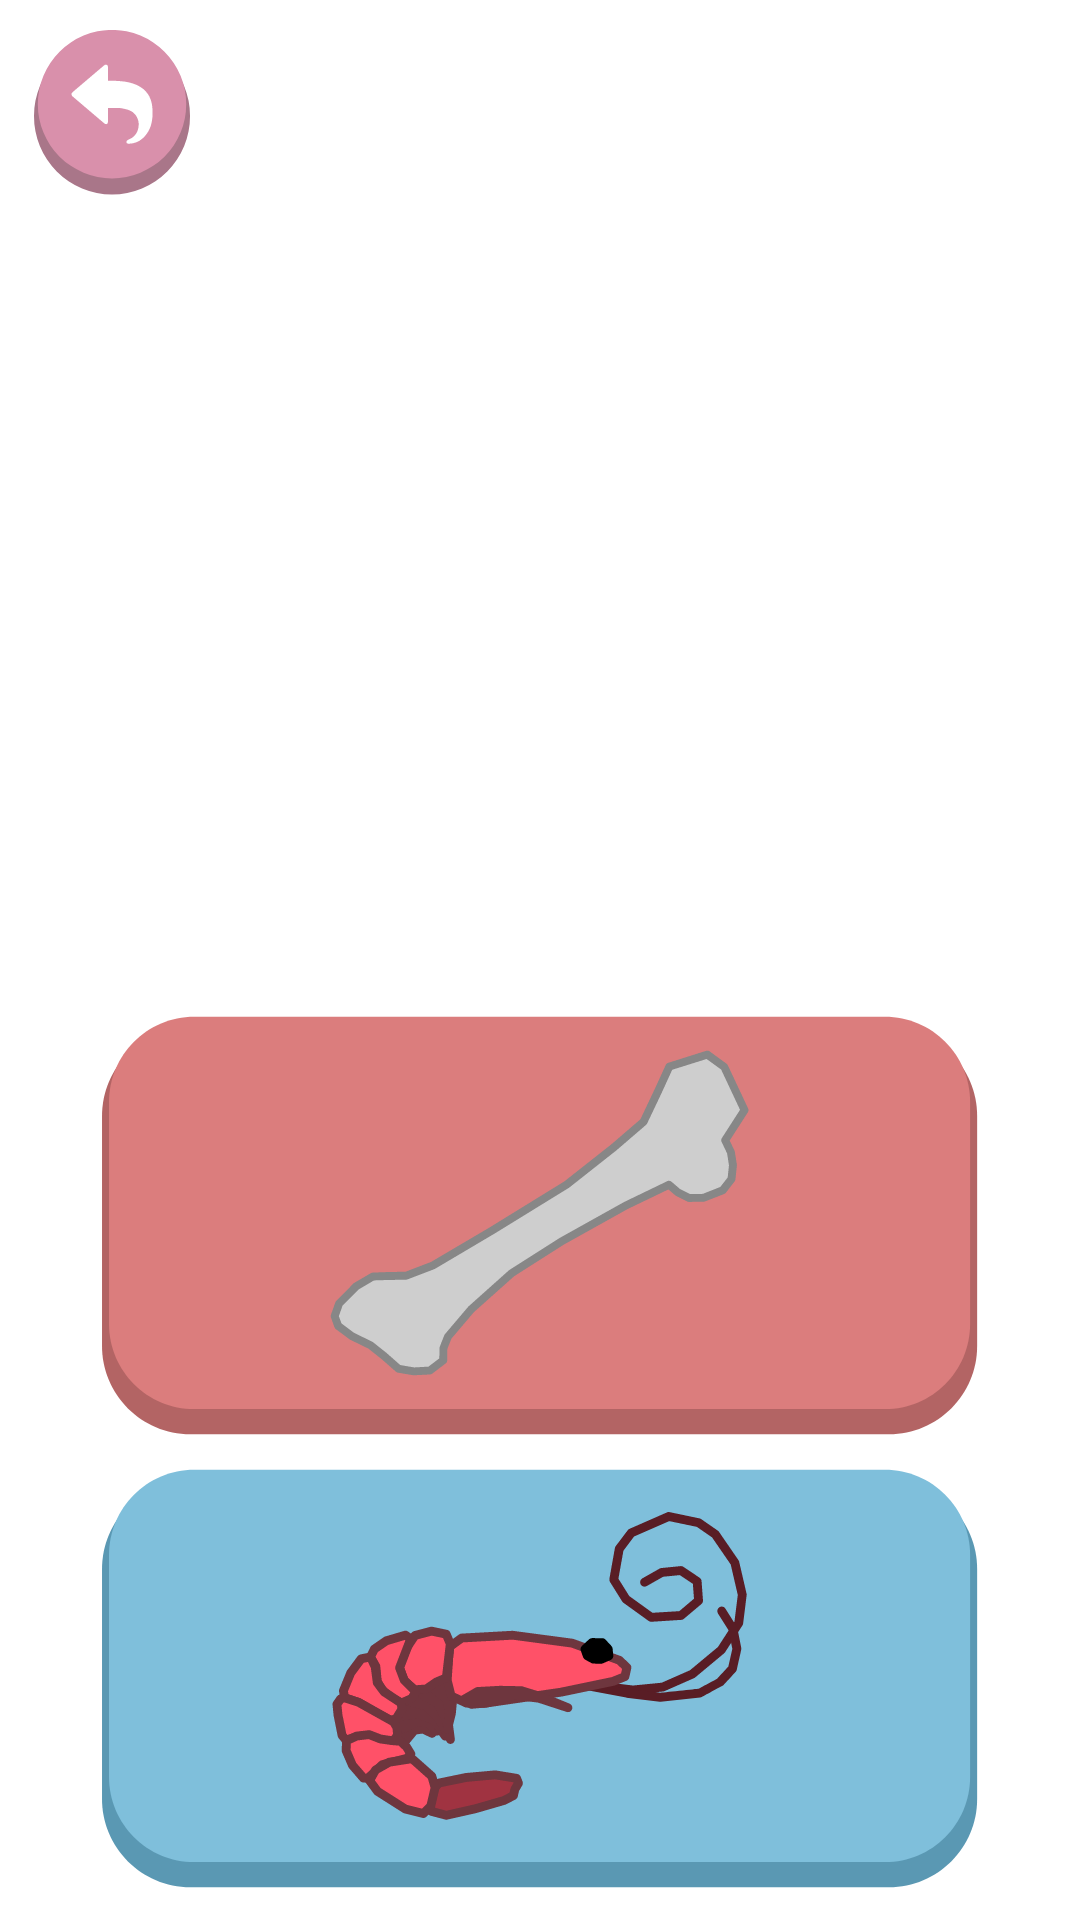

Icon bounding boxes for this 1080px×1920px phone screenshot, format (x1, y1, x2, y2):
back: (34, 30, 190, 195)
